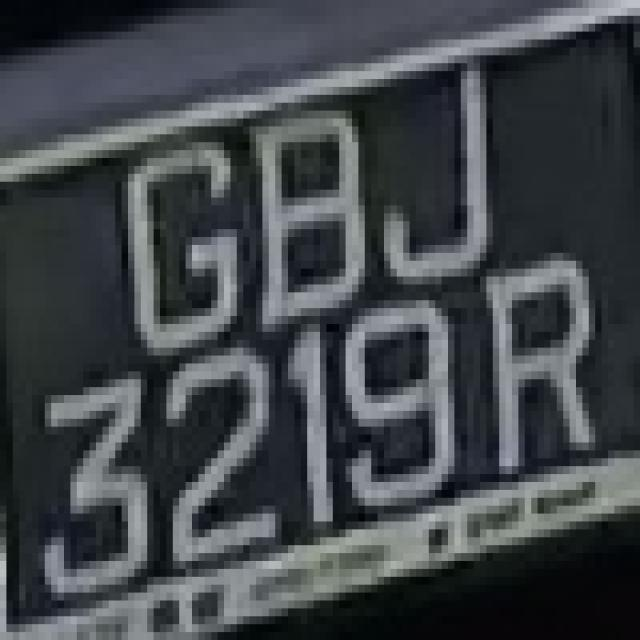1: (269, 332, 339, 561)
2: (154, 332, 288, 569)
3: (19, 364, 160, 632)
9: (320, 284, 461, 522)
B: (237, 87, 371, 324)
G: (102, 134, 244, 356)
J: (358, 63, 506, 277)
R: (461, 245, 614, 482)
